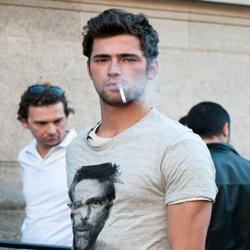smoking: (101, 77, 136, 108)
